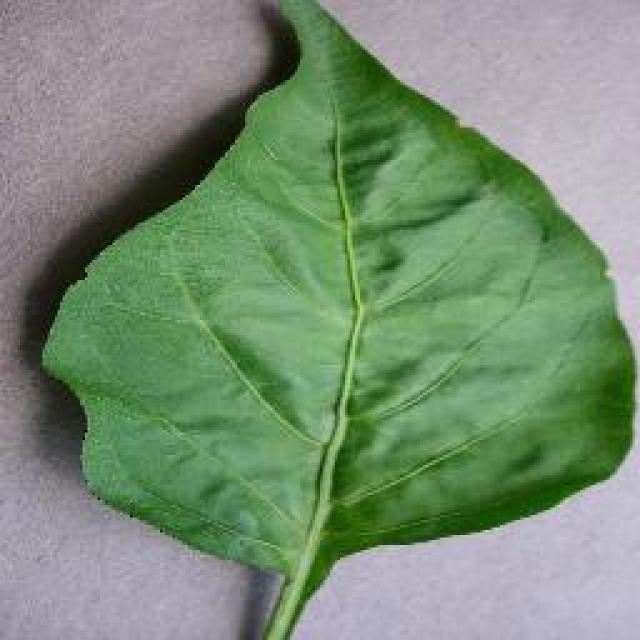Leaf: (37, 4, 640, 607)
